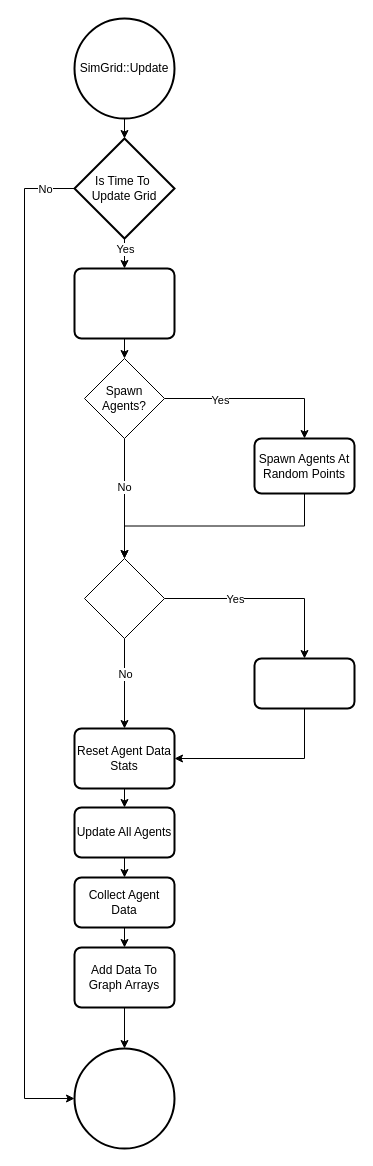
This 373x1166 diagram has some shape labels left out. Each missing label, with the centre of its shape:
"Grow Nutrients At Random Points" goes at (x=304, y=683).
"Reset Grid Stats" goes at (x=124, y=303).
"Return" goes at (x=124, y=1098).
"Spawn Nutrients?" goes at (x=124, y=598).
